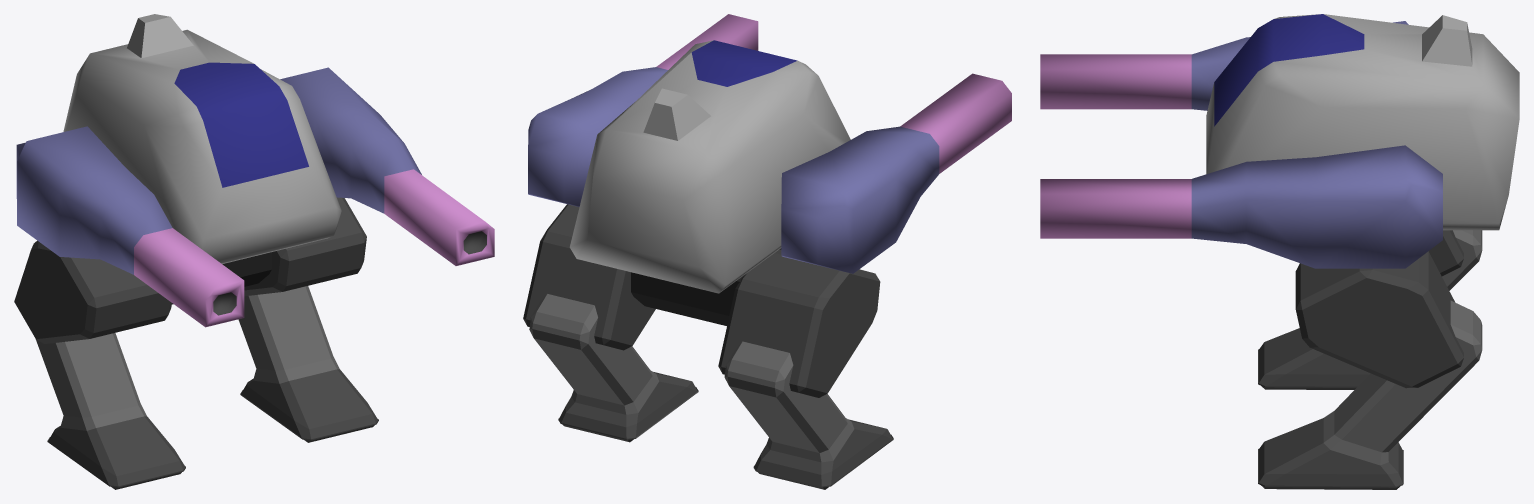
Rendered from robot.fbx.
3 views of the same model, side by side, from view 1: azimuth 30°, elevation 25°; view 2: azimuth 150°, elevation 25°; view 3: azimuth 270°, elevation 25° (orthographic). The views are drawn at different scales.
Visible parts, largest first — view 1: Turret, LegR, LegL, Base; view 2: Turret, LegR, LegL, Base; view 3: Turret, LegL, LegR.
Part boxes in pixels (x1=…): Turret: x1=16, y1=14, x2=494, y2=327; LegR: x1=14, y1=240, x2=185, y2=489; LegL: x1=238, y1=197, x2=378, y2=442; Base: x1=171, y1=252, x2=271, y2=304; Turret: x1=528, y1=14, x2=1011, y2=293; LegR: x1=718, y1=249, x2=893, y2=489; LegL: x1=523, y1=204, x2=698, y2=442; Base: x1=631, y1=248, x2=781, y2=325; Turret: x1=1040, y1=14, x2=1519, y2=268; LegL: x1=1258, y1=251, x2=1482, y2=489; LegR: x1=1258, y1=230, x2=1482, y2=389.
Bounding box in the file's own units: 94.11 × 106 × 115.
